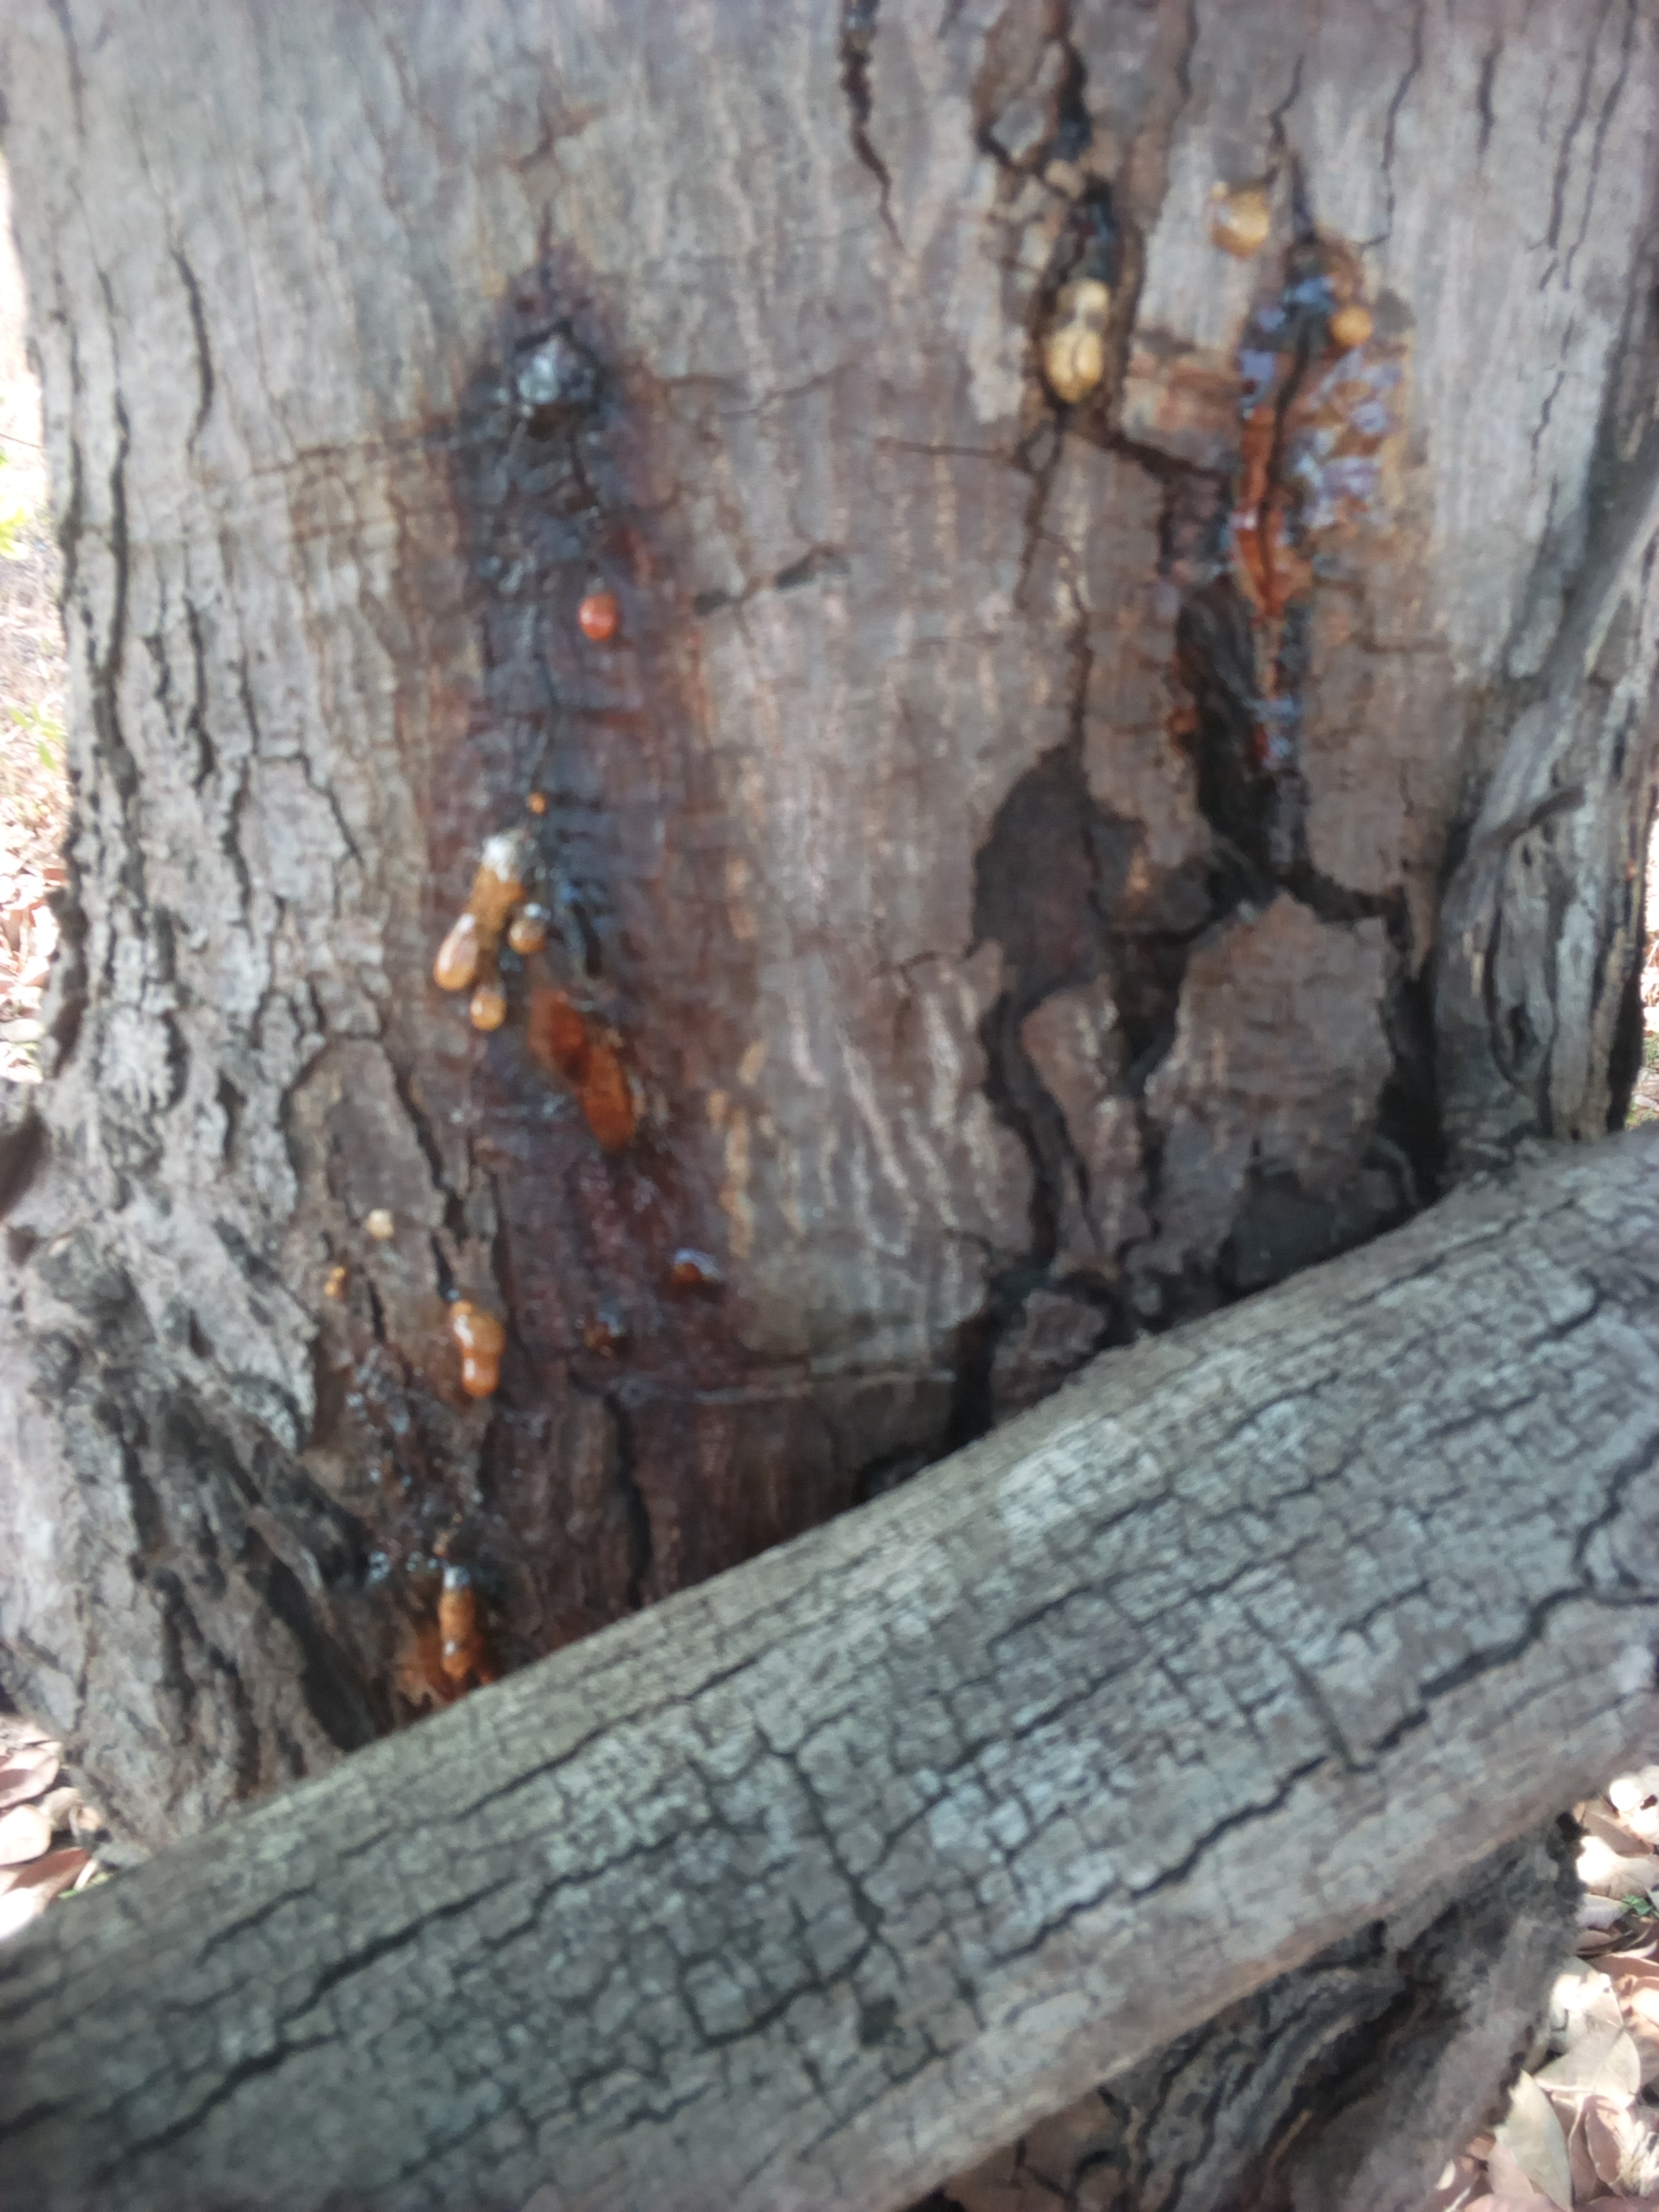Gommose: (427, 317, 732, 1641), (1220, 246, 1378, 761)
